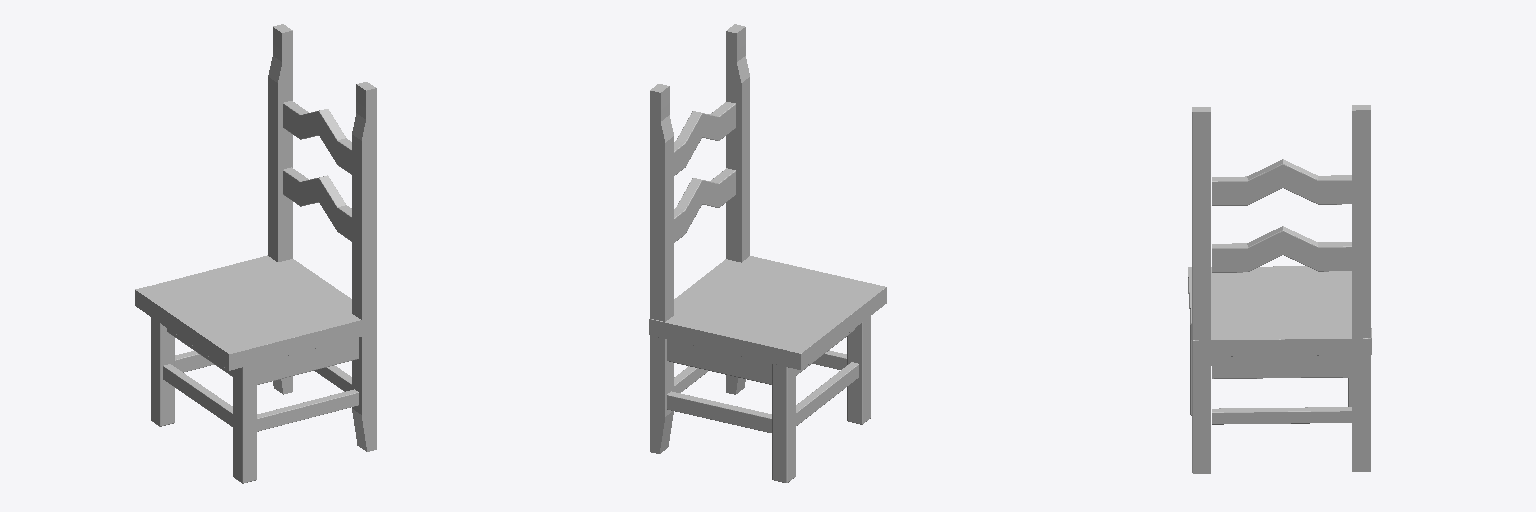
File: chair3.obj
3 renders of one model, left to right at view 1: azimuth 30°, elevation 25°; view 2: azimuth 150°, elevation 25°; view 3: azimuth 270°, elevation 25°, orthographic.
Bounding box in the file's own units: 31.5 × 70.82 × 32.66.